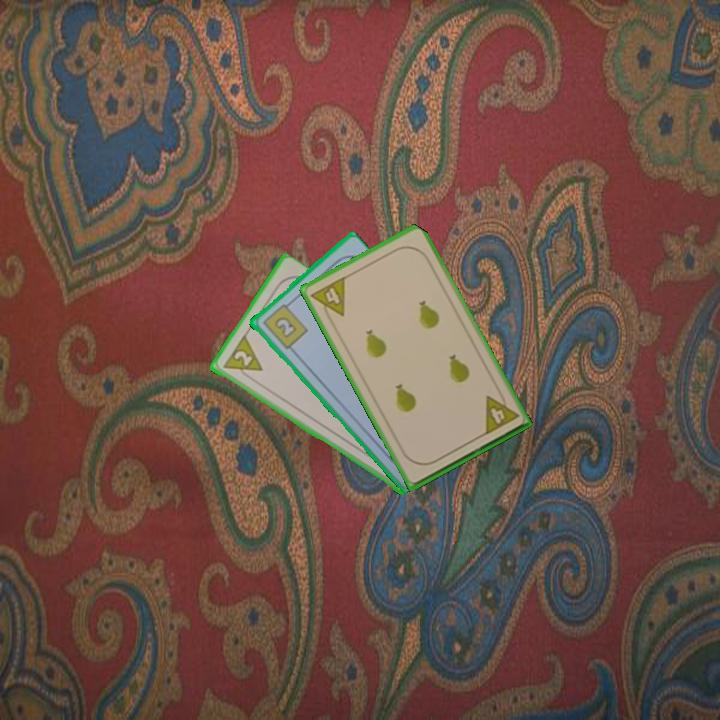2b: (259, 298, 310, 352)
2p: (219, 333, 265, 383)
4p: (307, 273, 348, 325), (480, 387, 521, 438)
